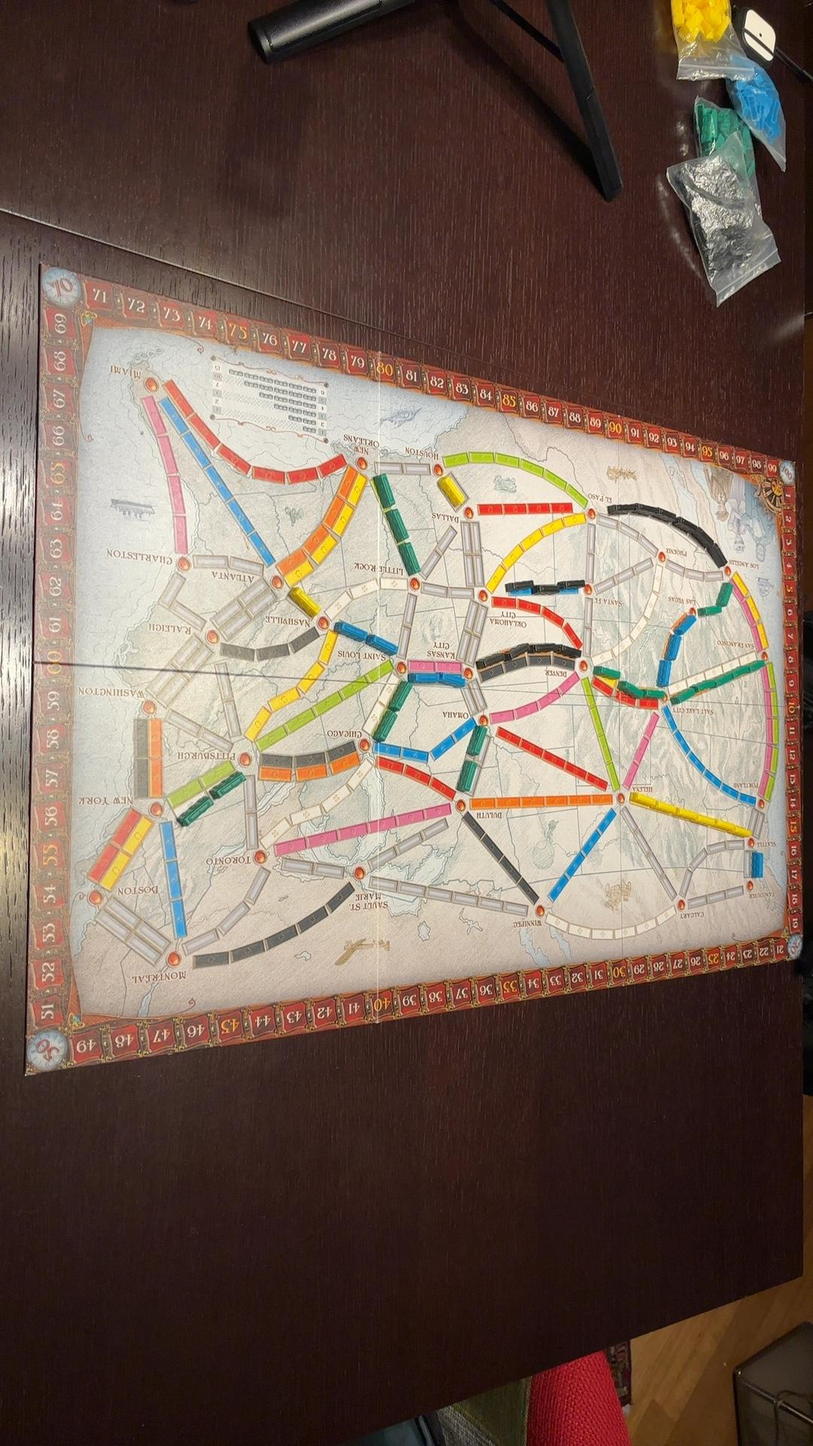black_train: (506, 580, 532, 594)
blue_train: (746, 851, 763, 878)
green_train: (178, 796, 213, 825), (209, 771, 245, 799), (373, 708, 397, 741), (385, 508, 407, 543), (373, 474, 394, 509), (389, 682, 411, 712), (399, 544, 419, 574), (456, 761, 476, 791), (468, 726, 487, 756), (672, 685, 699, 702), (620, 680, 644, 697), (717, 582, 732, 608), (595, 666, 620, 681), (639, 688, 665, 699), (698, 605, 721, 617)
yellow_train: (437, 472, 467, 510)
